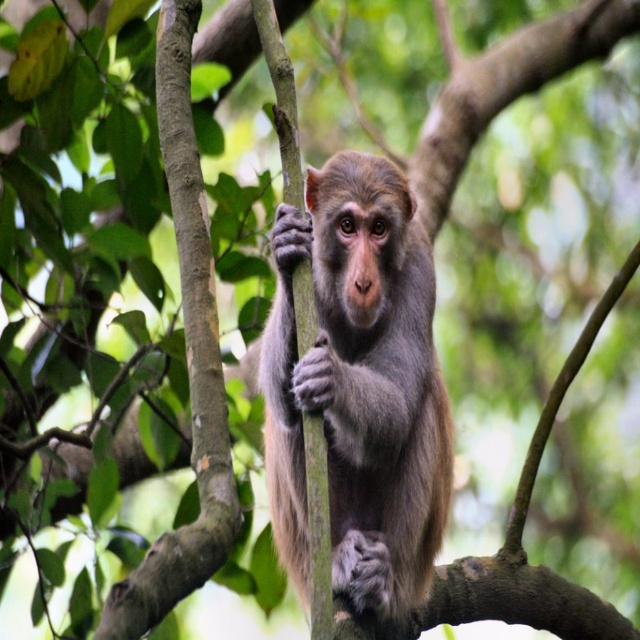Monkey: (223, 150, 454, 634)
